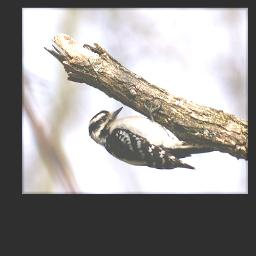Woodpecker: (79, 104, 219, 176)
